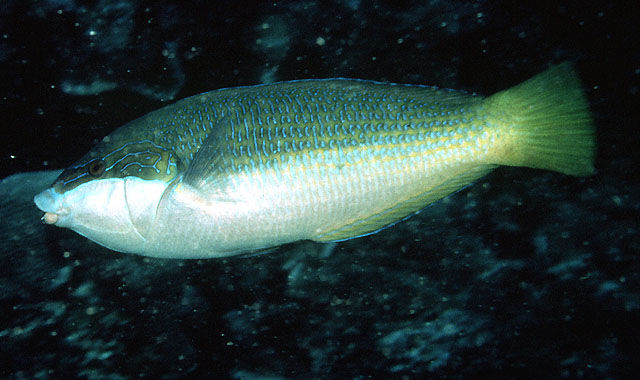fish: (35, 62, 599, 260)
